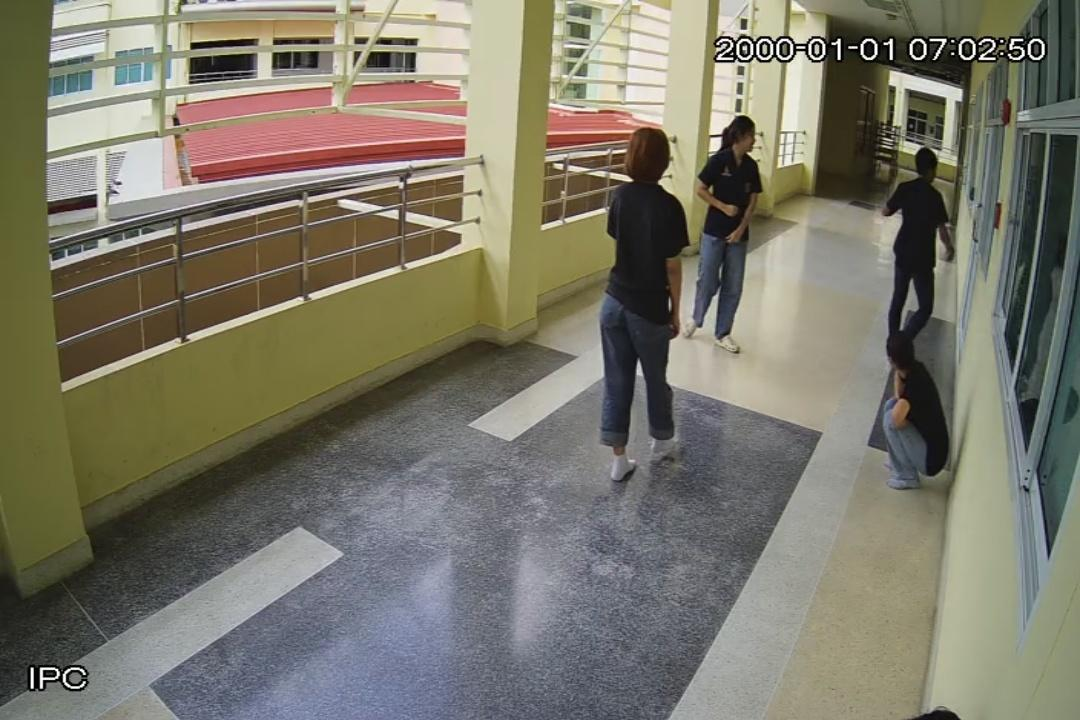normal: (596, 120, 680, 488), (680, 110, 772, 358), (874, 140, 962, 344), (874, 334, 958, 494)
